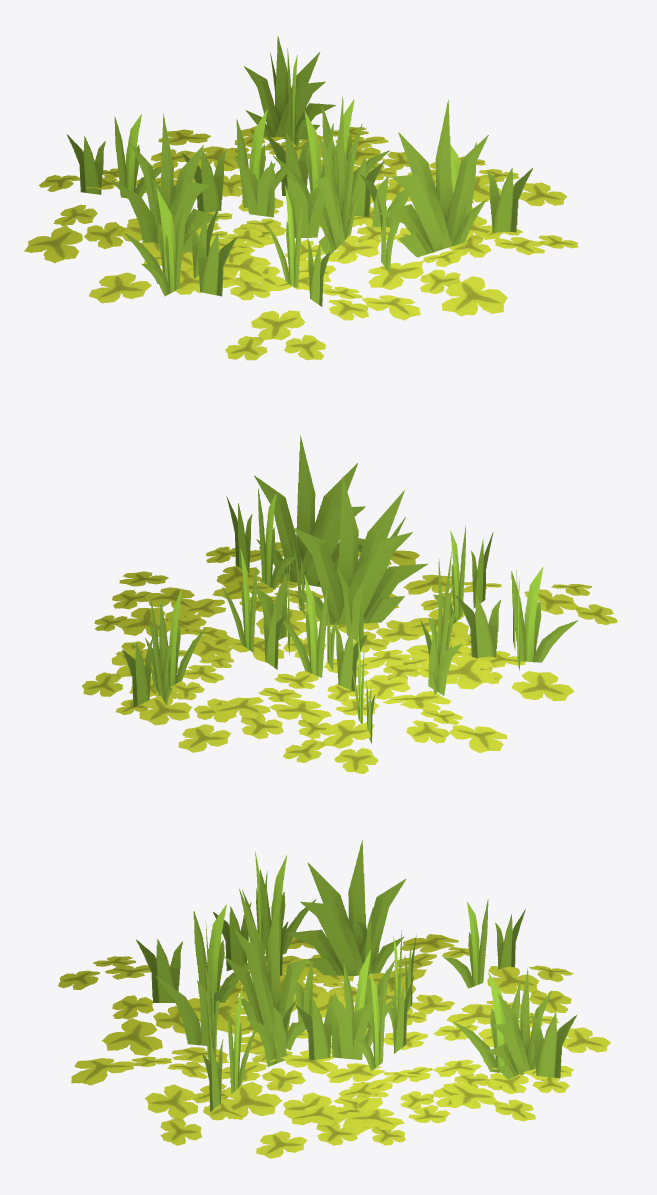
File: SM_Env_Ground_Cover_02.glb
The picture shows the model from 3 angles, top to bottom: view 1: azimuth 30°, elevation 25°; view 2: azimuth 150°, elevation 25°; view 3: azimuth 270°, elevation 25°; orthographic projection. The views are drawn at different scales.
Parts seen in each view (by area): view 1: SM_Env_Ground_Cover_02; view 2: SM_Env_Ground_Cover_02; view 3: SM_Env_Ground_Cover_02.
Boxes of the visible parts, x1,y1,x2,y2 form: SM_Env_Ground_Cover_02: (24, 36, 578, 360); SM_Env_Ground_Cover_02: (82, 435, 617, 773); SM_Env_Ground_Cover_02: (58, 840, 610, 1158).
Size of the model in its own units: 1.87 by 0.5704 by 1.91.
Materials: 1 (1 with a texture image).
